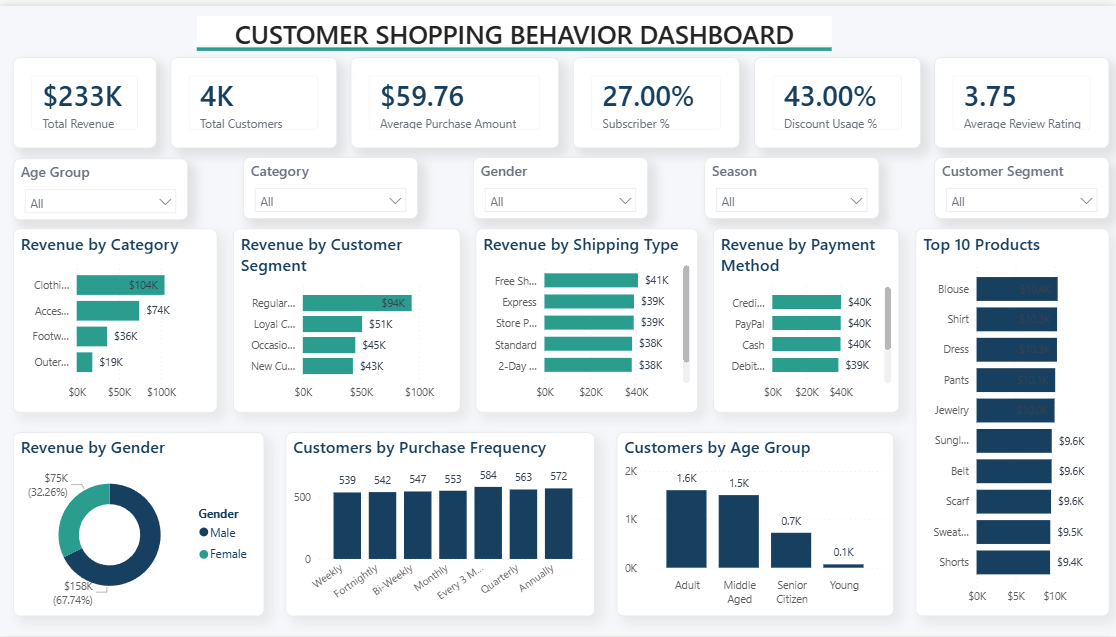

The dashboard page shown, as its layout file describes it:
{"tool":"powerbi","page":{"name":"Page 1","canvas":[1280,720],"ordinal":0},"visuals":[{"type":"cardVisual","fields":{"Data":["public customer.Average Purchase Amount"]},"box":[403.1,58.6,238.6,104.3],"z":0},{"type":"cardVisual","fields":{"Data":["public customer.Average Review Rating"]},"box":[1070,58.6,200,104.3],"z":1000},{"type":"cardVisual","fields":{"Data":["public customer.Discount Usage %"]},"box":[863.9,58.6,190,104.3],"z":2000},{"type":"cardVisual","fields":{"Data":["public customer.Subscriber %"]},"box":[657.8,58.6,190,104.3],"z":3000},{"type":"cardVisual","fields":{"Data":["public customer.Total Customers"]},"box":[197,58.6,190,104.3],"z":4000},{"type":"cardVisual","fields":{"Data":["public customer.Total Revenue"]},"box":[16.9,58.3,164,104],"z":5000},{"type":"slicer","title":"Age Group","fields":{"Values":["public customer.age_group"]},"box":[16.9,173.6,200,70],"z":6000},{"type":"slicer","title":"Category","fields":{"Values":["public customer.category"]},"box":[280.1,172.2,200,70],"z":7000},{"type":"slicer","title":"Gender","fields":{"Values":["public customer.gender"]},"box":[543.3,172.2,200,70],"z":8000},{"type":"slicer","title":"Customer Segment","fields":{"Values":["public customer.customer_segment"]},"box":[1069.7,172.2,200,70],"z":9000},{"type":"slicer","title":"Season","fields":{"Values":["public customer.season"]},"box":[806.5,172.2,200,70],"z":10000},{"type":"clusteredBarChart","title":"Revenue by Category ","fields":{"Category":["public customer.category"],"Y":["public customer.Total Revenue"]},"box":[16.9,254.6,233.4,210],"z":11000},{"type":"clusteredBarChart","title":"Revenue by Customer Segment","fields":{"Category":["public customer.customer_segment"],"Y":["public customer.Total Revenue"]},"box":[268,254.6,260,210],"z":12000},{"type":"clusteredColumnChart","title":"Customers by Age Group","fields":{"Category":["public customer.age_group"],"Y":["public customer.Total Customers"]},"box":[706.8,487.1,317.1,210],"z":13000},{"type":"donutChart","title":"Revenue by Gender   ","fields":{"Category":["public customer.gender"],"Y":["public customer.Total Revenue"]},"box":[16.9,486.6,287.1,210],"z":14000},{"type":"clusteredBarChart","title":"Top 10 Products ","fields":{"Category":["public customer.item_purchased"],"Y":["public customer.Total Revenue"]},"box":[1048.3,254,221.4,442.9],"z":15000},{"type":"clusteredColumnChart","title":"Customers by Purchase Frequency","fields":{"Category":["public customer.frequency_of_purchases"],"Y":["public customer.Total Customers"]},"box":[328.4,486.6,354,210],"z":16000},{"type":"clusteredBarChart","title":"Revenue by Payment Method","fields":{"Category":["public customer.payment_method"],"Y":["public customer.Total Revenue"]},"box":[817.1,254.3,212.9,210],"z":17000},{"type":"clusteredBarChart","title":"Revenue by Shipping Type","fields":{"Category":["public customer.shipping_type"],"Y":["public customer.Total Revenue"]},"box":[545.7,254.3,254.3,210],"z":18000},{"type":"textbox","title":" CUSTOMER SHOPPING BEHAVIOR DASHBOARD  ","box":[227.1,11.4,725.7,32.9],"z":19000},{"type":"shape","box":[227.1,0,725.7,98.6],"z":20000}]}

Visuals, with their boxes in screenshot pixels (x1, y1, x2, y2), scaled from the page's 1280x720 canvas onto the 1116x637 screenshot:
cardVisual - public customer.Average Purchase Amount: pyautogui.locateOnScreen(351, 52, 559, 144)
cardVisual - public customer.Average Review Rating: pyautogui.locateOnScreen(933, 52, 1107, 144)
cardVisual - public customer.Discount Usage %: pyautogui.locateOnScreen(753, 52, 919, 144)
cardVisual - public customer.Subscriber %: pyautogui.locateOnScreen(574, 52, 739, 144)
cardVisual - public customer.Total Customers: pyautogui.locateOnScreen(172, 52, 337, 144)
cardVisual - public customer.Total Revenue: pyautogui.locateOnScreen(15, 52, 158, 144)
"Age Group" slicer: pyautogui.locateOnScreen(15, 154, 189, 216)
"Category" slicer: pyautogui.locateOnScreen(244, 152, 419, 214)
"Gender" slicer: pyautogui.locateOnScreen(474, 152, 648, 214)
"Customer Segment" slicer: pyautogui.locateOnScreen(933, 152, 1107, 214)
"Season" slicer: pyautogui.locateOnScreen(703, 152, 878, 214)
"Revenue by Category " clusteredBarChart: pyautogui.locateOnScreen(15, 225, 218, 411)
"Revenue by Customer Segment" clusteredBarChart: pyautogui.locateOnScreen(234, 225, 460, 411)
"Customers by Age Group" clusteredColumnChart: pyautogui.locateOnScreen(616, 431, 893, 617)
"Revenue by Gender   " donutChart: pyautogui.locateOnScreen(15, 431, 265, 616)
"Top 10 Products " clusteredBarChart: pyautogui.locateOnScreen(914, 225, 1107, 617)
"Customers by Purchase Frequency" clusteredColumnChart: pyautogui.locateOnScreen(286, 431, 595, 616)
"Revenue by Payment Method" clusteredBarChart: pyautogui.locateOnScreen(712, 225, 898, 411)
"Revenue by Shipping Type" clusteredBarChart: pyautogui.locateOnScreen(476, 225, 698, 411)
" CUSTOMER SHOPPING BEHAVIOR DASHBOARD  " textbox: pyautogui.locateOnScreen(198, 10, 831, 39)
shape: pyautogui.locateOnScreen(198, 0, 831, 87)
